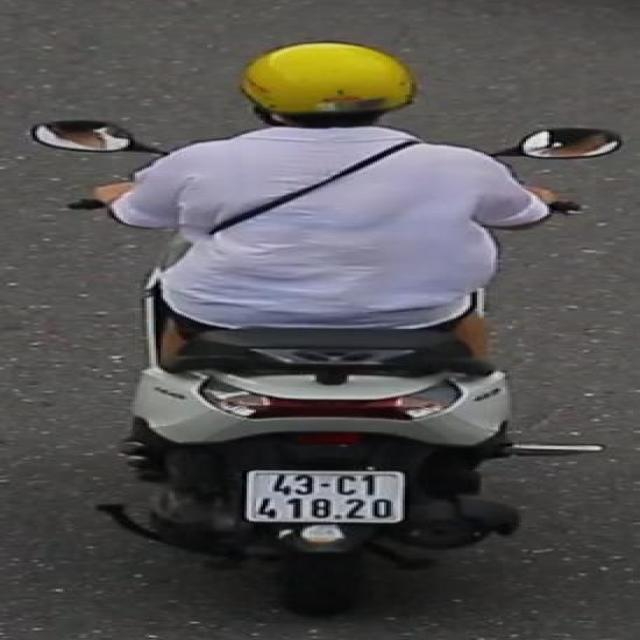LP: (235, 457, 428, 548)
helmet: (222, 34, 430, 140)
